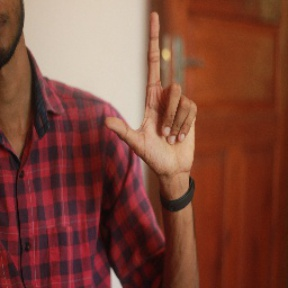L: (106, 10, 205, 170)
